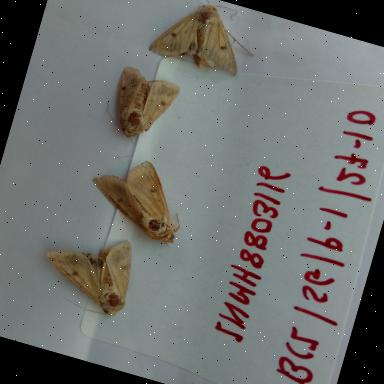abw: (75, 141, 203, 254), (27, 218, 146, 327), (139, 0, 268, 93), (89, 52, 193, 155)
